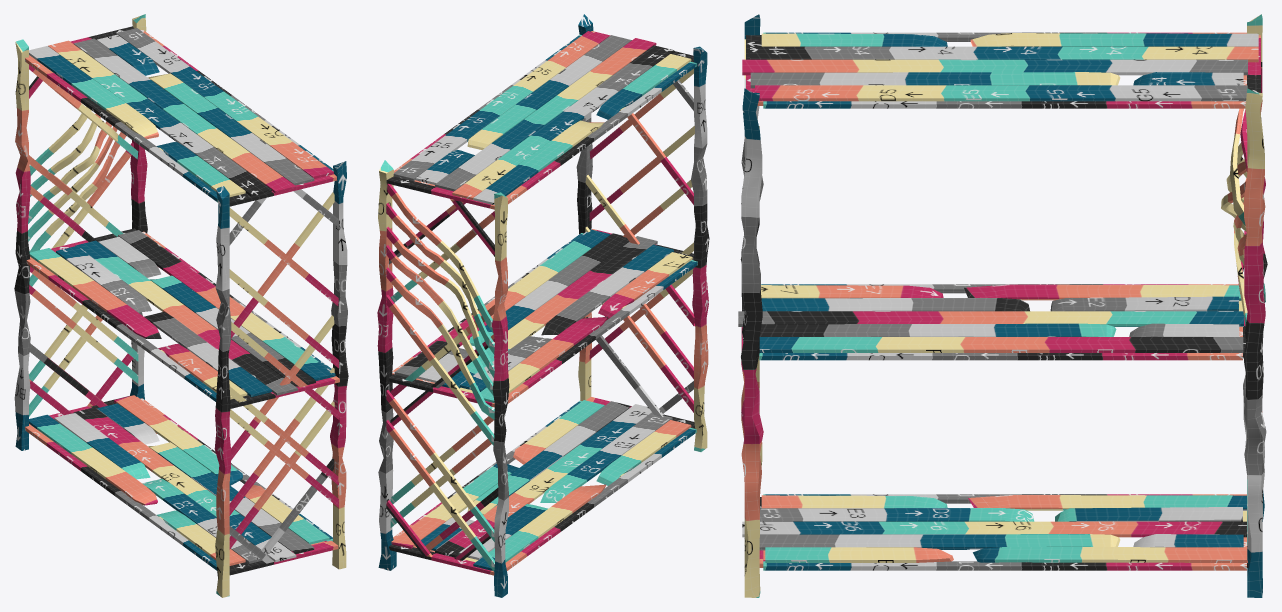
The model's file is tallWineRack.fbx.
3 renders of one model, left to right at view 1: azimuth 30°, elevation 25°; view 2: azimuth 150°, elevation 25°; view 3: azimuth 270°, elevation 25°, orthographic. The views are drawn at different scales.
Parts seen in each view (by area): view 1: pCube67, pCube4, pCube66, pCube79, pCube110, pCube70, pCube78, pCube114, pCube109, polySurface18, polySurface15, polySurface6 (+49 smaller); view 2: pCube67, pCube4, pCube65, pCube79, pCube110, pCube70, pCube109, pCube78, polySurface18, pCube114, polySurface8, polySurface21 (+49 smaller); view 3: pCube65, pCube66, pCube70, pCube114, pCube110, pCube79, pCube109, pCube78, polySurface18, polySurface8, polySurface21, polySurface22 (+23 smaller).
Part boxes in pixels (bbox=[...]): pCube67: bbox=[214, 186, 231, 597]; pCube4: bbox=[14, 39, 30, 450]; pCube66: bbox=[330, 161, 348, 569]; pCube79: bbox=[48, 40, 271, 196]; pCube110: bbox=[73, 38, 296, 193]; pCube70: bbox=[116, 28, 333, 178]; pCube78: bbox=[75, 240, 297, 395]; pCube114: bbox=[118, 230, 335, 380]; pCube109: bbox=[73, 407, 296, 562]; polySurface18: bbox=[148, 73, 314, 185]; polySurface15: bbox=[29, 46, 158, 138]; polySurface6: bbox=[29, 248, 161, 338]; pCube67: bbox=[691, 46, 709, 451]; pCube4: bbox=[492, 192, 509, 597]; pCube65: bbox=[377, 160, 396, 570]; pCube79: bbox=[452, 45, 674, 199]; pCube110: bbox=[435, 38, 656, 191]; pCube70: bbox=[393, 31, 608, 181]; pCube109: bbox=[435, 404, 651, 557]; pCube78: bbox=[441, 236, 657, 388]; polySurface18: bbox=[467, 35, 631, 149]; pCube114: bbox=[394, 229, 610, 377]; polySurface8: bbox=[467, 401, 631, 514]; polySurface21: bbox=[469, 233, 629, 346]; pCube65: bbox=[1243, 88, 1266, 597]; pCube66: bbox=[741, 88, 763, 597]; pCube70: bbox=[755, 85, 1247, 101]; pCube114: bbox=[759, 337, 1243, 352]; pCube110: bbox=[742, 59, 1247, 75]; pCube79: bbox=[750, 46, 1258, 62]; pCube109: bbox=[742, 521, 1246, 537]; pCube78: bbox=[738, 311, 1243, 326]; polySurface18: bbox=[750, 72, 1120, 88]; polySurface8: bbox=[759, 534, 1120, 550]; polySurface21: bbox=[759, 323, 1116, 336]; polySurface22: bbox=[973, 547, 1247, 562].
Bounding box in the file's own units: 2.13 × 6.52 × 6.13.
1 material, 1 textured.
